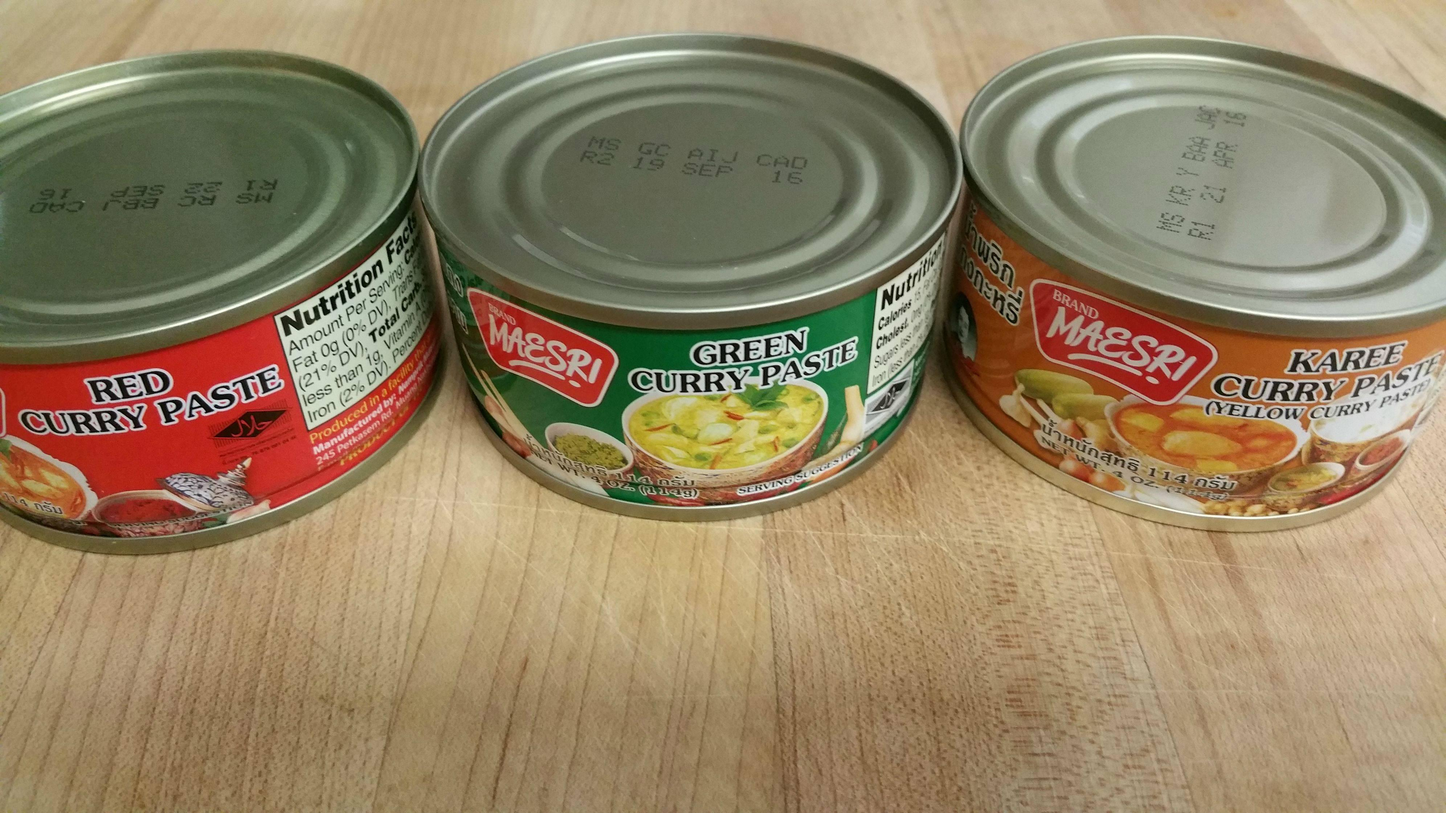metal: (0, 32, 1446, 553)
